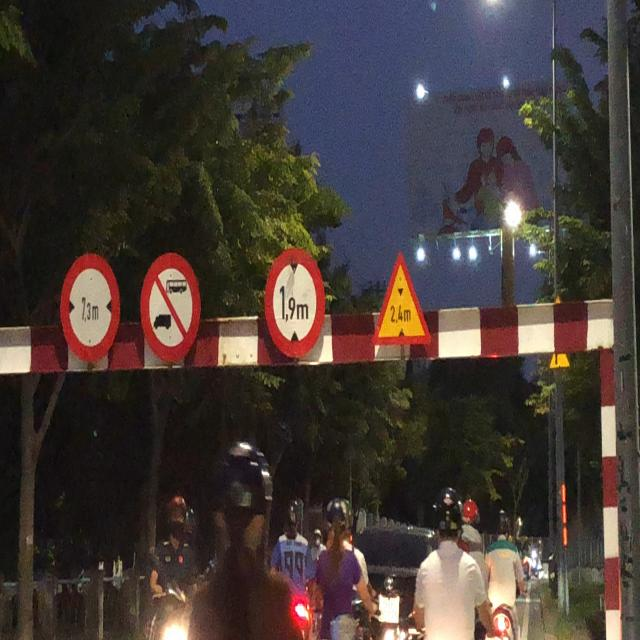Bien bao cam xe oto khach va xe oto tai: (138, 247, 208, 370)
Bien bao chieu cao tinh khong thuc te: (369, 243, 436, 351)
Bien bao han che chieu cao: (260, 242, 328, 362)
